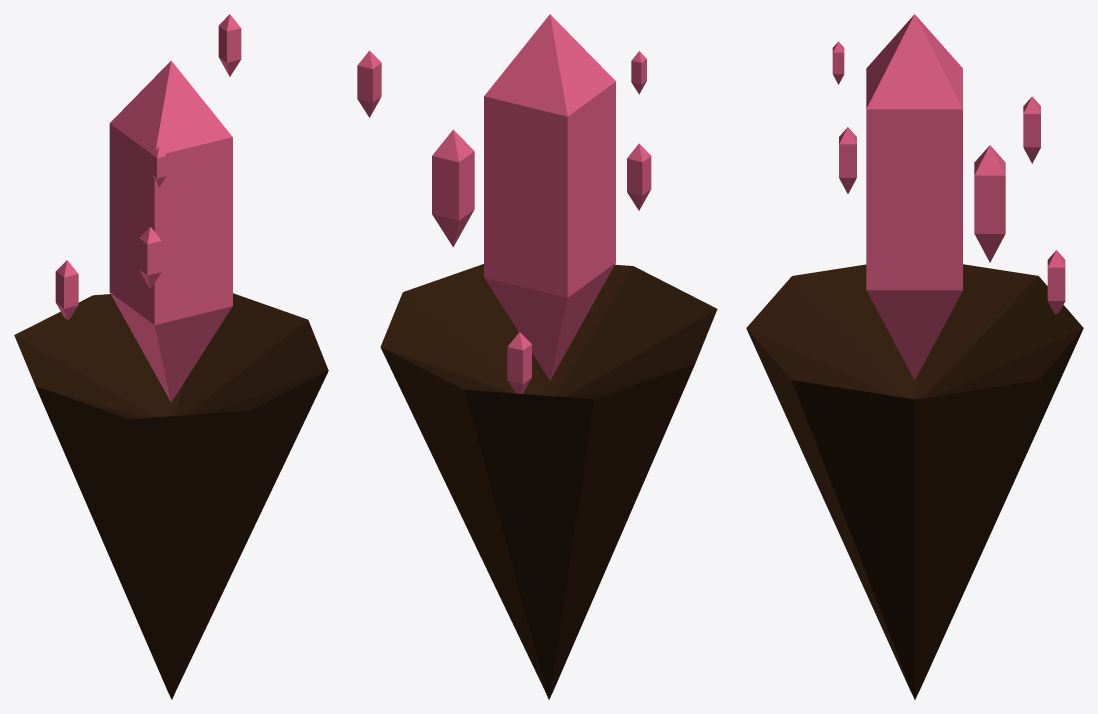
Rendered from checkpoint.glb.
The picture shows the model from 3 angles, left to right: view 1: azimuth 30°, elevation 25°; view 2: azimuth 150°, elevation 25°; view 3: azimuth 270°, elevation 25°; orthographic projection. The views are drawn at different scales.
Visible parts, largest first — view 1: Mount, Crystal.Main, Crystal.005, Crystal.004, Crystal.003, Crystal.002; view 2: Mount, Crystal.Main, Crystal.001, Crystal.003, Crystal.005, Crystal.004; view 3: Mount, Crystal.Main, Crystal.001, Crystal.004, Crystal.003, Crystal.005.
Part boxes in pixels (bbox=[...]): Mount: bbox=[14, 293, 328, 699]; Crystal.Main: bbox=[109, 60, 232, 402]; Crystal.005: bbox=[218, 14, 241, 76]; Crystal.004: bbox=[55, 260, 78, 319]; Crystal.003: bbox=[139, 227, 161, 289]; Crystal.002: bbox=[151, 147, 166, 187]; Mount: bbox=[380, 264, 717, 699]; Crystal.Main: bbox=[484, 14, 615, 380]; Crystal.001: bbox=[432, 129, 474, 247]; Crystal.003: bbox=[627, 143, 651, 210]; Crystal.005: bbox=[357, 50, 381, 117]; Crystal.004: bbox=[507, 332, 531, 393]; Mount: bbox=[746, 264, 1083, 699]; Crystal.Main: bbox=[866, 14, 962, 380]; Crystal.001: bbox=[974, 145, 1005, 262]; Crystal.004: bbox=[1047, 250, 1065, 313]; Crystal.003: bbox=[839, 127, 856, 193]; Crystal.005: bbox=[1023, 96, 1040, 163].
Bounding box in the file's own units: 76.35 × 171 × 76.35.
